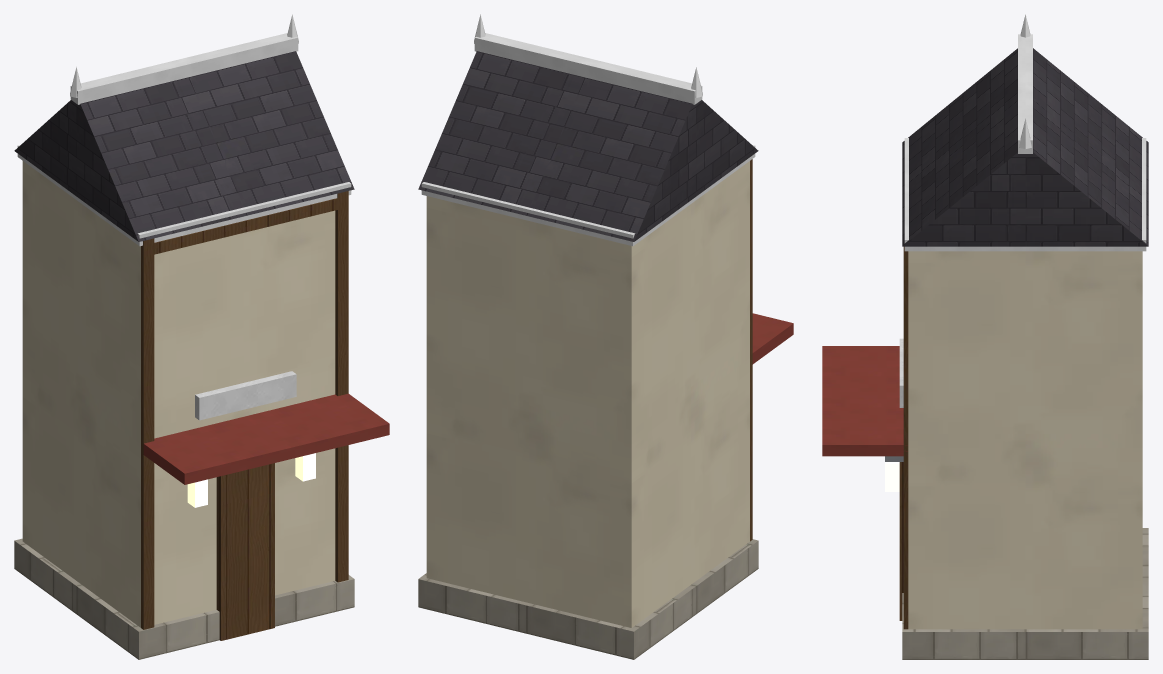
File: category.dex.t5.glb
3 views of the same model, side by side, from view 1: azimuth 30°, elevation 25°; view 2: azimuth 150°, elevation 25°; view 3: azimuth 270°, elevation 25° (orthographic).
Parts seen in each view (by area): view 1: building.category.dex.t5; view 2: building.category.dex.t5; view 3: building.category.dex.t5.
Part boxes in pixels (bbox=[...]): building.category.dex.t5: bbox=[14, 14, 389, 659]; building.category.dex.t5: bbox=[418, 14, 793, 659]; building.category.dex.t5: bbox=[822, 14, 1148, 659].
Bounding box in the file's own units: 2.12 × 4.85 × 2.65.
9 materials, 8 textured.
